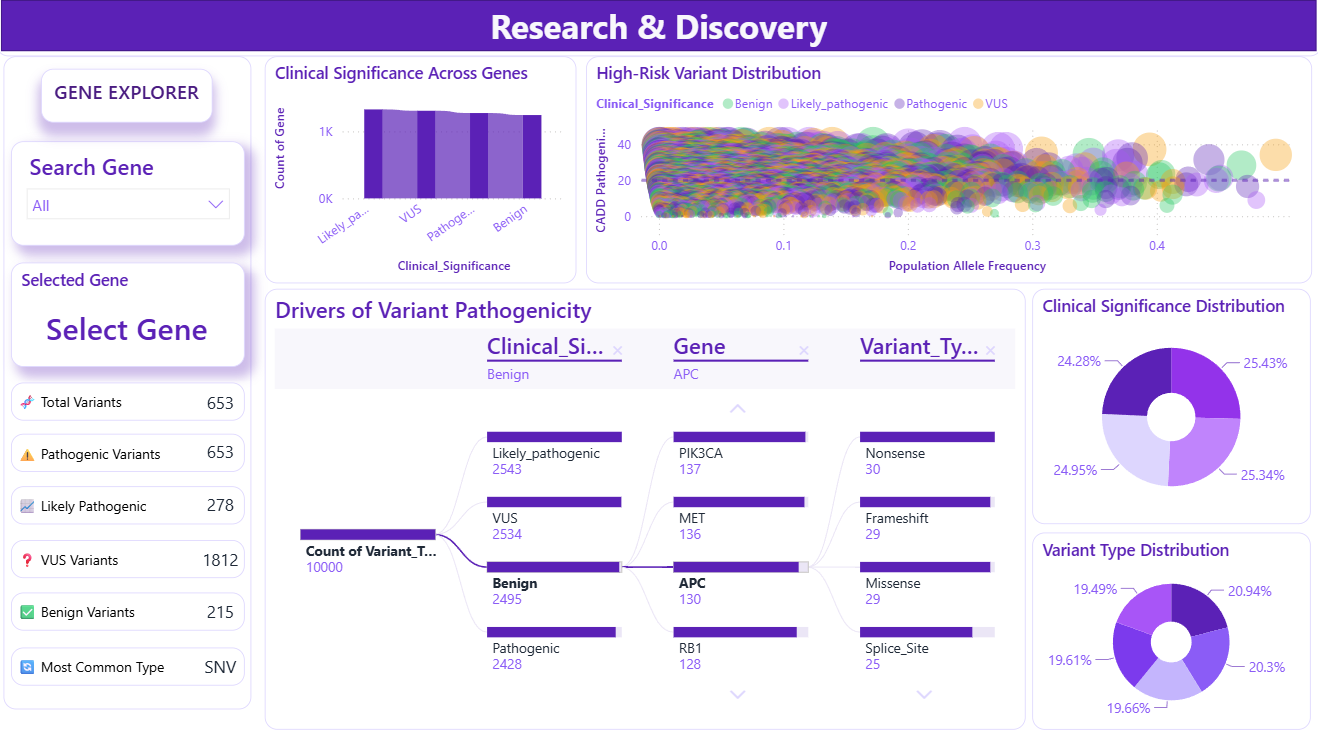

The dashboard page shown, as its layout file describes it:
{"tool":"powerbi","page":{"name":"Research & Discovery Dashboard","canvas":[1280,720],"ordinal":5},"visuals":[{"type":"shape","box":[0,0,1279.7,59.4],"z":0},{"type":"group","id":"g1","title":"Group 1","box":[7.2,59.1,240,630],"z":1000,"group":"g2"},{"type":"shape","box":[7.2,59.1,239.6,630.2],"z":1000,"group":"g1"},{"type":"slicer","title":"Search Gene","fields":{"Values":["cancer_variant_prioritization_dataset.Gene"]},"box":[14.2,141.7,225.6,101],"z":2000,"group":"g1"},{"type":"textbox","box":[194,637.3,44.4,22.9],"z":2000,"group":"g2"},{"type":"group","id":"g2","title":"Group 2","box":[7.2,59.1,240.1,629.8],"z":3000},{"type":"textbox","box":[43.4,71.3,165.7,52],"z":3000,"group":"g1"},{"type":"textbox","box":[194,583.8,44.4,22.9],"z":3000,"group":"g2"},{"type":"scatterChart","title":"High-Risk Variant Distribution","fields":{"Series":["cancer_variant_prioritization_dataset.Clinical_Significance"],"Size":["Sum(cancer_variant_prioritization_dataset.CADD_Score)"],"X":["cancer_variant_prioritization_dataset.Population_AF"],"Y":["cancer_variant_prioritization_dataset.CADD_Score"]},"box":[569.4,59.1,700.9,219.6],"z":4000},{"type":"textbox","box":[194,533.4,44.4,22.9],"z":4000,"group":"g2"},{"type":"ribbonChart","title":"Clinical Significance Across Genes","fields":{"Category":["cancer_variant_prioritization_dataset.Clinical_Significance"],"Y":["CountNonNull(cancer_variant_prioritization_dataset.Gene)"]},"box":[259.4,59.1,300.4,219.6],"z":5000},{"type":"cardVisual","title":"Selected Gene","fields":{"Data":["cancer_variant_prioritization_dataset.Selected Gene"]},"box":[14.2,257.9,225.6,101],"z":5000,"group":"g1"},{"type":"textbox","box":[194,479.9,44.4,22.9],"z":5000,"group":"g2"},{"type":"decompositionTreeVisual","title":"Drivers of Variant Pathogenicity","fields":{"Analyze":["cancer_variant_prioritization_dataset.Count of Variant_Type"],"ExplainBy":["cancer_variant_prioritization_dataset.Clinical_Significance","cancer_variant_prioritization_dataset.Gene","cancer_variant_prioritization_dataset.Variant_Type"]},"box":[259.4,283.5,734.7,425.9],"z":6000},{"type":"textbox","box":[194,429.4,44.4,22.9],"z":6000,"group":"g2"},{"type":"shape","box":[14.2,374.2,225.6,36.7],"z":7000,"group":"g1"},{"type":"textbox","box":[194,382,44.4,22.9],"z":7000,"group":"g2"},{"type":"donutChart","title":"Variant Type Distribution","fields":{"Category":["cancer_variant_prioritization_dataset.Variant_Type"],"Y":["cancer_variant_prioritization_dataset.Count of Variant_Type"]},"box":[1000.1,518.8,269,190.6],"z":7000},{"type":"donutChart","title":"Clinical Significance Distribution","fields":{"Category":["cancer_variant_prioritization_dataset.Clinical_Significance"],"Y":["cancer_variant_prioritization_dataset.Count of Variant_Type"]},"box":[1000.1,283.5,269,226.8],"z":8001},{"type":"shape","box":[14.2,423.1,225.6,36.7],"z":9000,"group":"g1"},{"type":"shape","box":[14.2,473.6,225.6,36.7],"z":11000,"group":"g1"},{"type":"shape","box":[14.2,525.6,225.6,36.7],"z":13000,"group":"g1"},{"type":"shape","box":[14.2,576.1,225.6,36.7],"z":15000,"group":"g1"},{"type":"shape","box":[14.2,629.6,225.6,36.7],"z":16000,"group":"g1"}]}

Visuals, with their boxes in screenshot pixels (x1, y1, x2, y2), scaled from the page's 1280x720 canvas onto the 1318x738 screenshot:
shape: locate(0, 0, 1317, 61)
"Group 1" group: locate(7, 61, 255, 706)
shape: locate(7, 61, 254, 707)
"Search Gene" slicer: locate(15, 145, 247, 249)
textbox: locate(200, 653, 245, 677)
"Group 2" group: locate(7, 61, 255, 706)
textbox: locate(45, 73, 215, 126)
textbox: locate(200, 598, 245, 622)
"High-Risk Variant Distribution" scatterChart: locate(586, 61, 1308, 286)
textbox: locate(200, 547, 245, 570)
"Clinical Significance Across Genes" ribbonChart: locate(267, 61, 576, 286)
"Selected Gene" cardVisual: locate(15, 264, 247, 368)
textbox: locate(200, 492, 245, 515)
"Drivers of Variant Pathogenicity" decompositionTreeVisual: locate(267, 291, 1024, 727)
textbox: locate(200, 440, 245, 464)
shape: locate(15, 384, 247, 421)
textbox: locate(200, 392, 245, 415)
"Variant Type Distribution" donutChart: locate(1030, 532, 1307, 727)
"Clinical Significance Distribution" donutChart: locate(1030, 291, 1307, 523)
shape: locate(15, 434, 247, 471)
shape: locate(15, 485, 247, 523)
shape: locate(15, 539, 247, 576)
shape: locate(15, 591, 247, 628)
shape: locate(15, 645, 247, 683)
